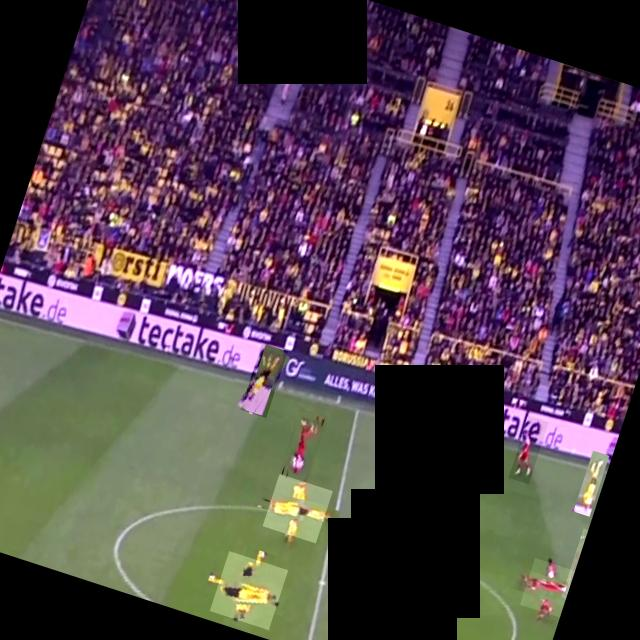ball: (382, 414, 402, 440)
soccer-player: (209, 550, 287, 629), (262, 472, 332, 542), (278, 406, 328, 484), (240, 342, 286, 418), (519, 557, 575, 617), (384, 423, 437, 477), (508, 415, 548, 483), (425, 435, 475, 484), (572, 450, 608, 516), (386, 389, 434, 438), (560, 528, 588, 598)
